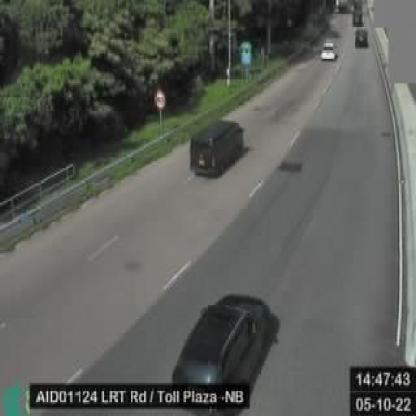Car: (170, 293, 270, 412), (188, 121, 244, 175), (354, 27, 368, 48), (321, 42, 337, 59)
